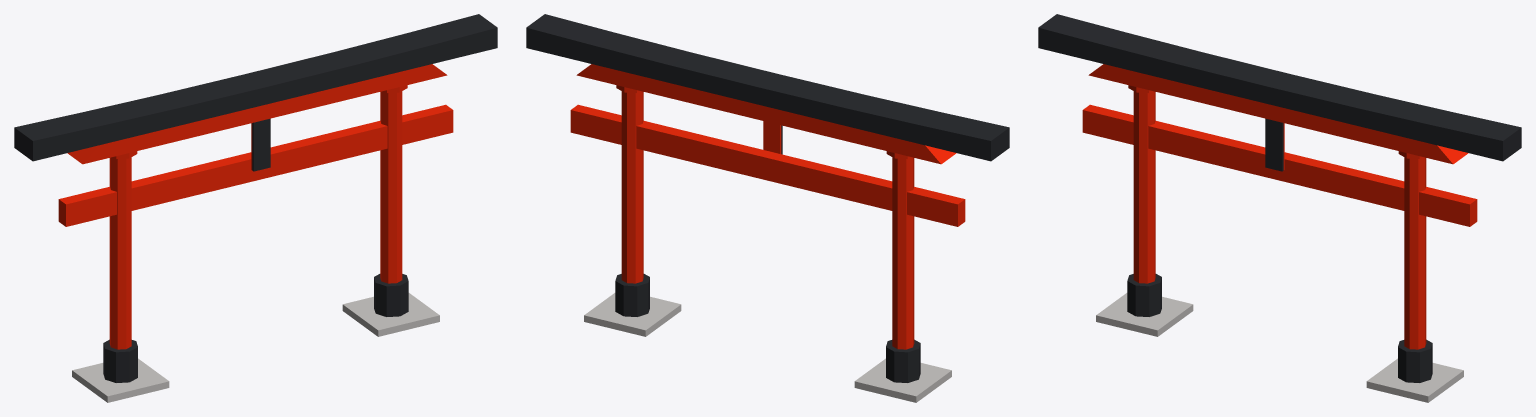
Rendered from Arch_1.fbx.
3 renders of one model, left to right at view 1: azimuth 30°, elevation 25°; view 2: azimuth 150°, elevation 25°; view 3: azimuth 330°, elevation 25°, orthographic.
Parts seen in each view (by area): view 1: Arch_1; view 2: Arch_1; view 3: Arch_1.
Part boxes in pixels (x1=…): Arch_1: x1=14, y1=14, x2=497, y2=402; Arch_1: x1=526, y1=14, x2=1009, y2=402; Arch_1: x1=1038, y1=14, x2=1521, y2=402.
Size of the model in its own units: 650 by 363 by 86.26.
